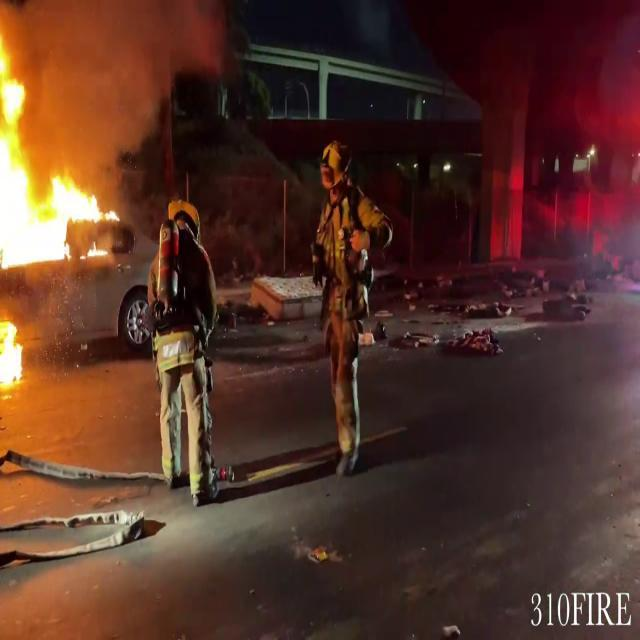Fire: (0, 15, 117, 269), (0, 314, 32, 393)
Smoke: (13, 0, 223, 156)
